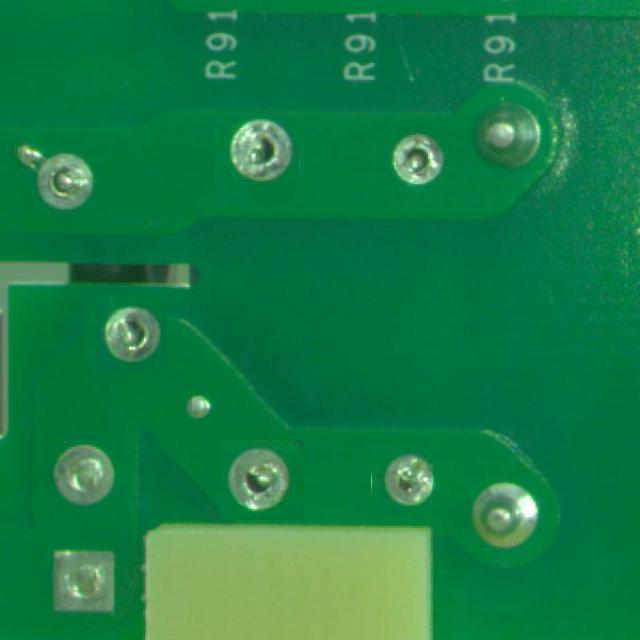lack_of_part: (214, 117, 300, 204), (372, 122, 456, 205), (16, 138, 100, 218), (221, 440, 304, 520), (91, 299, 164, 372), (371, 446, 433, 516)
